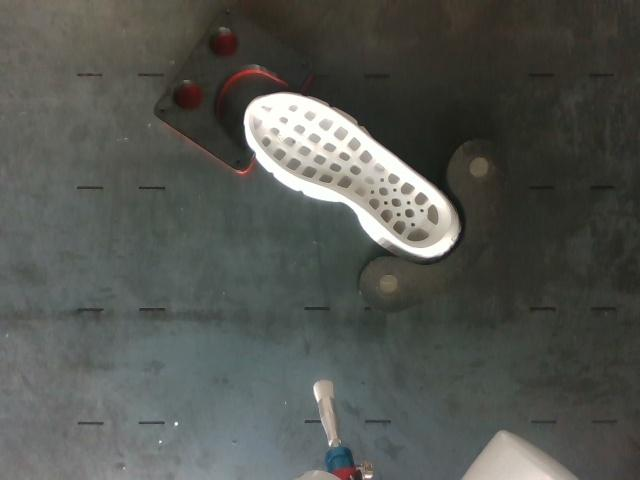shoes: (248, 94, 451, 248)
